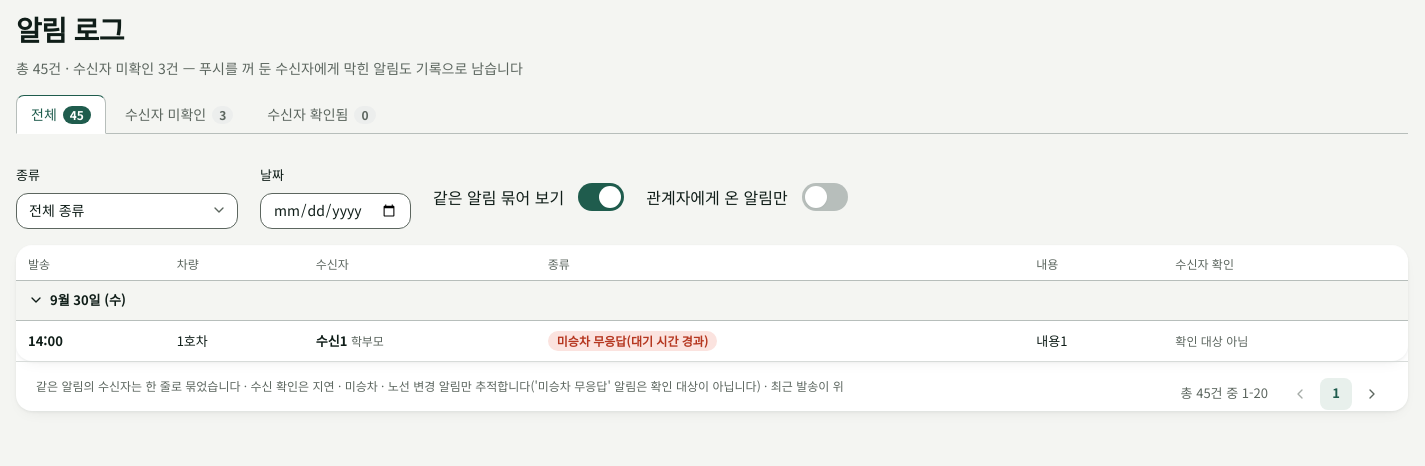
Test: NotificationList — 필터·쪽·실패 › 쪽 조회가 실패해도 보이던 목록을 지우지 않고 오류만 알린다
This screenshot has width=1425, height=466.
Check: the text "내용1" is shown, box [1024, 320, 1163, 361]
What coordinates should you click on to do the following:
click the button named "다음"
I would click on:
 (1372, 394)
Its box is [1356, 378, 1388, 410].
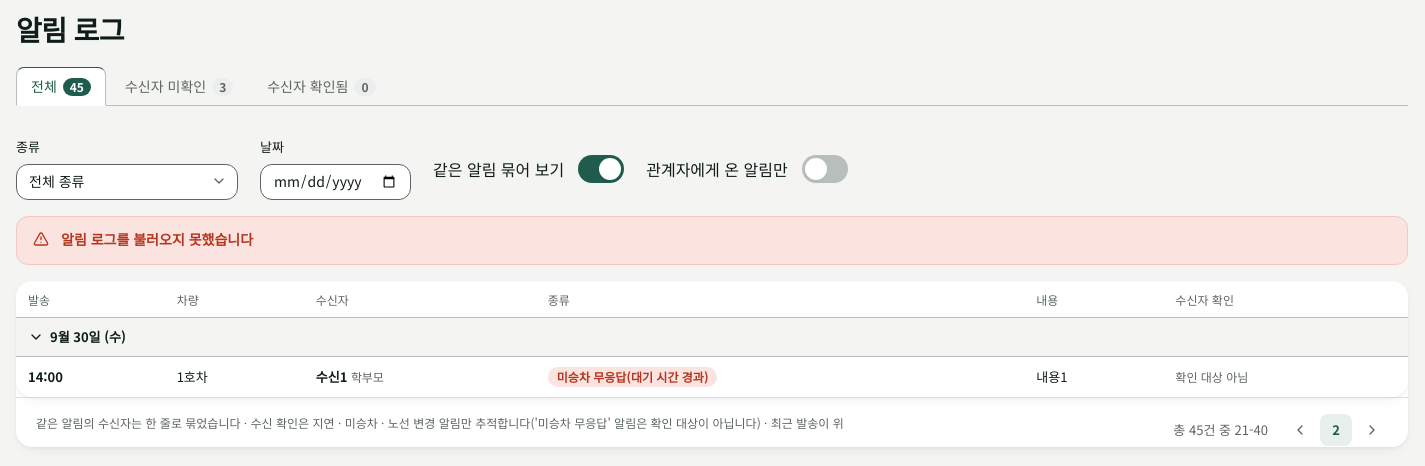
Check: the text "내용1" is shown, box [1024, 357, 1163, 397]
Check: the text "알림 로그를 불러오지 못했습니다" is shown, box [61, 229, 253, 249]
